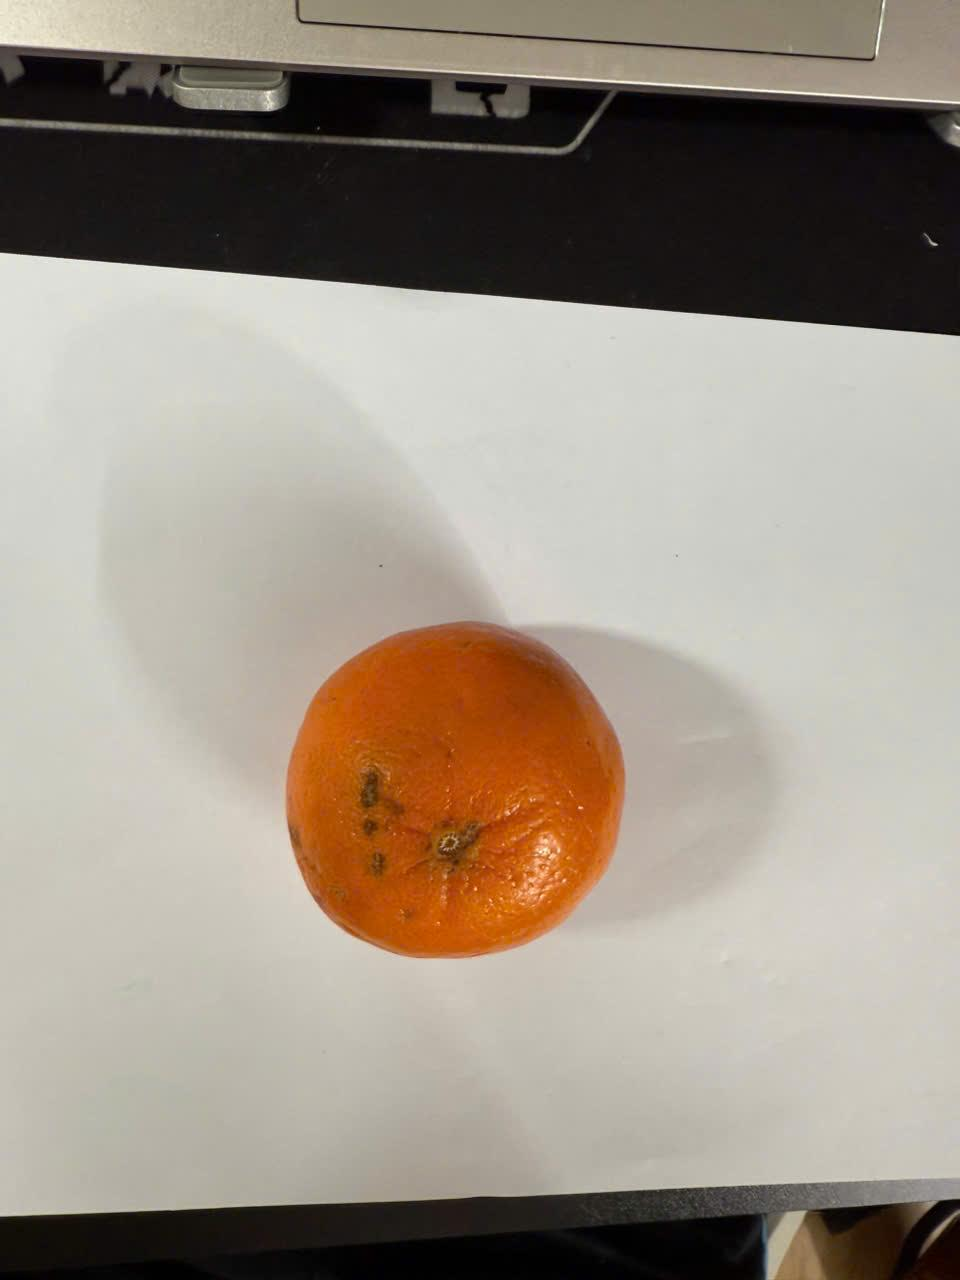orange: (270, 616, 648, 962)
